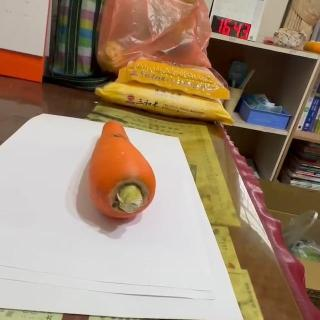carrot: (88, 119, 156, 223)
